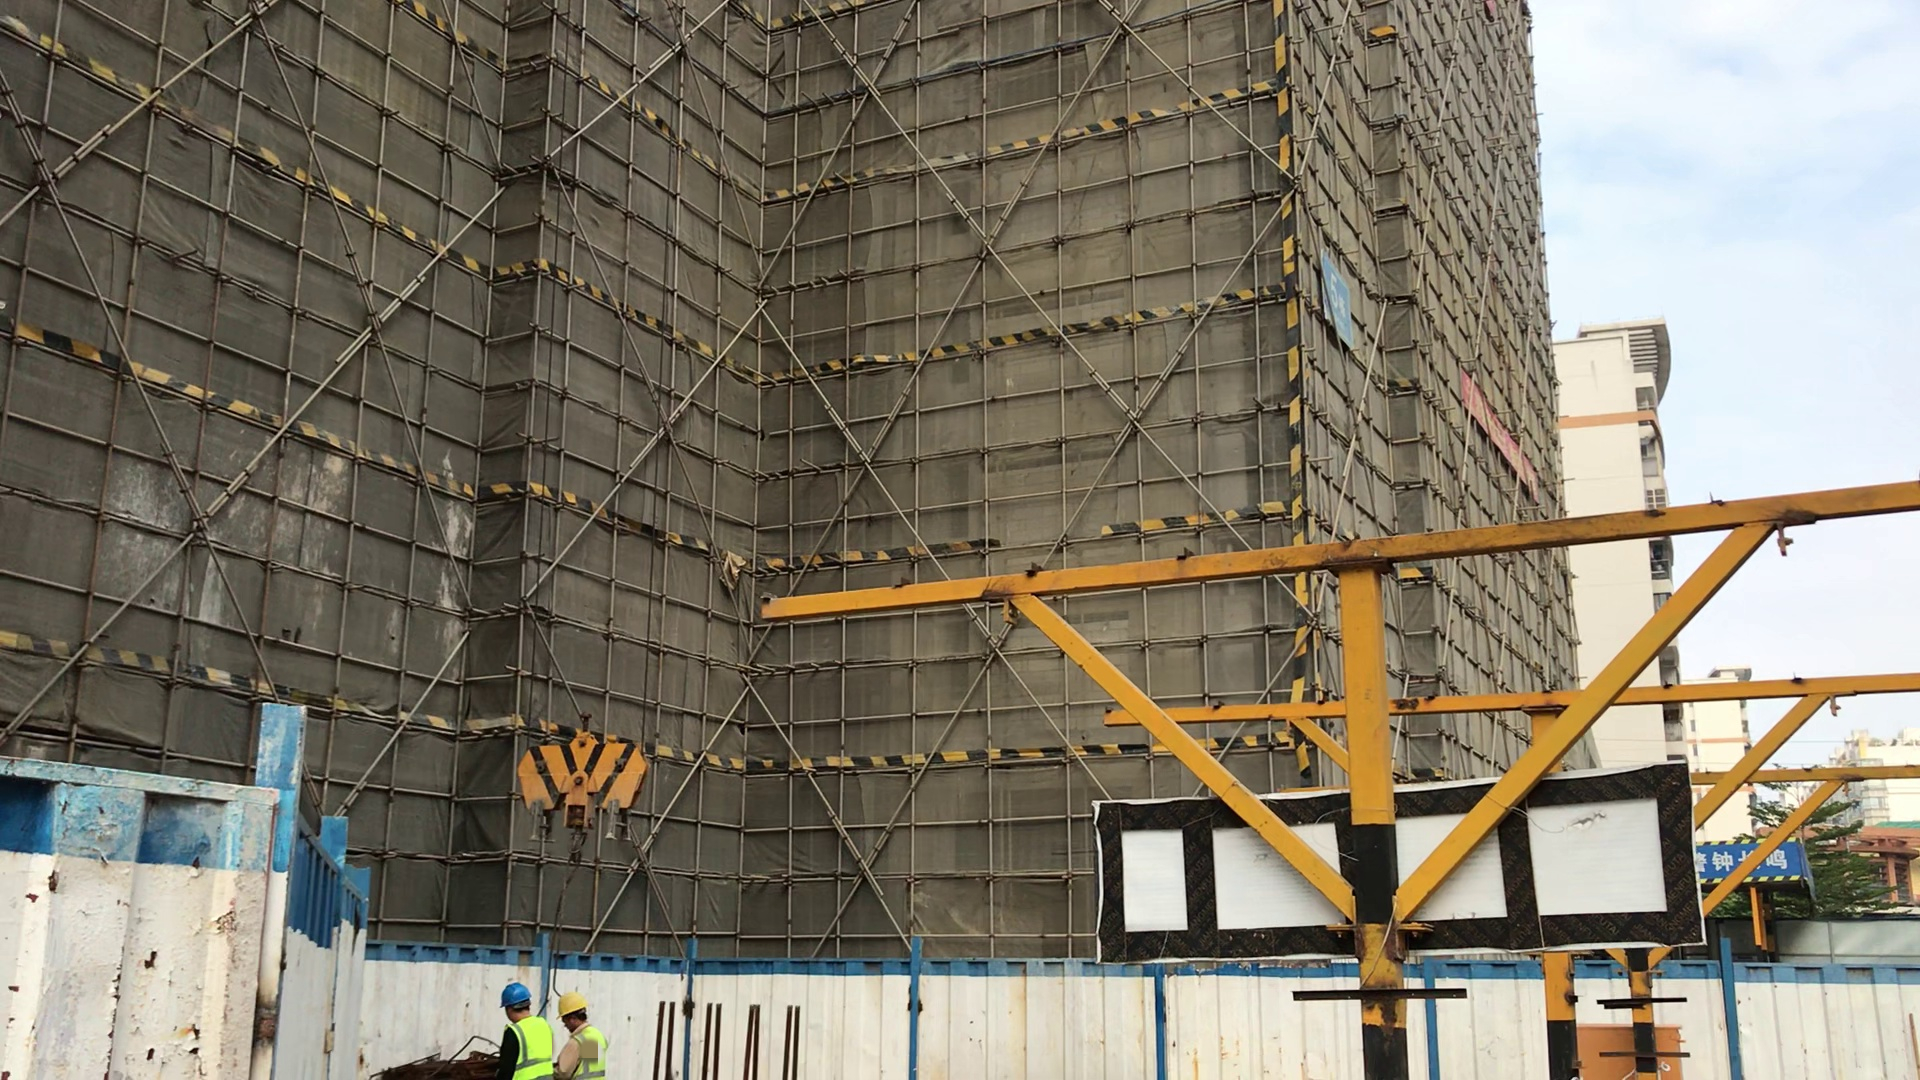ebox: (1560, 1031, 1688, 1080)
helmet: (558, 990, 587, 1018), (497, 983, 533, 1005)
hook: (505, 713, 645, 846)
person: (477, 979, 564, 1080), (558, 986, 614, 1080)
vest: (495, 1020, 556, 1080), (562, 1027, 609, 1080)
